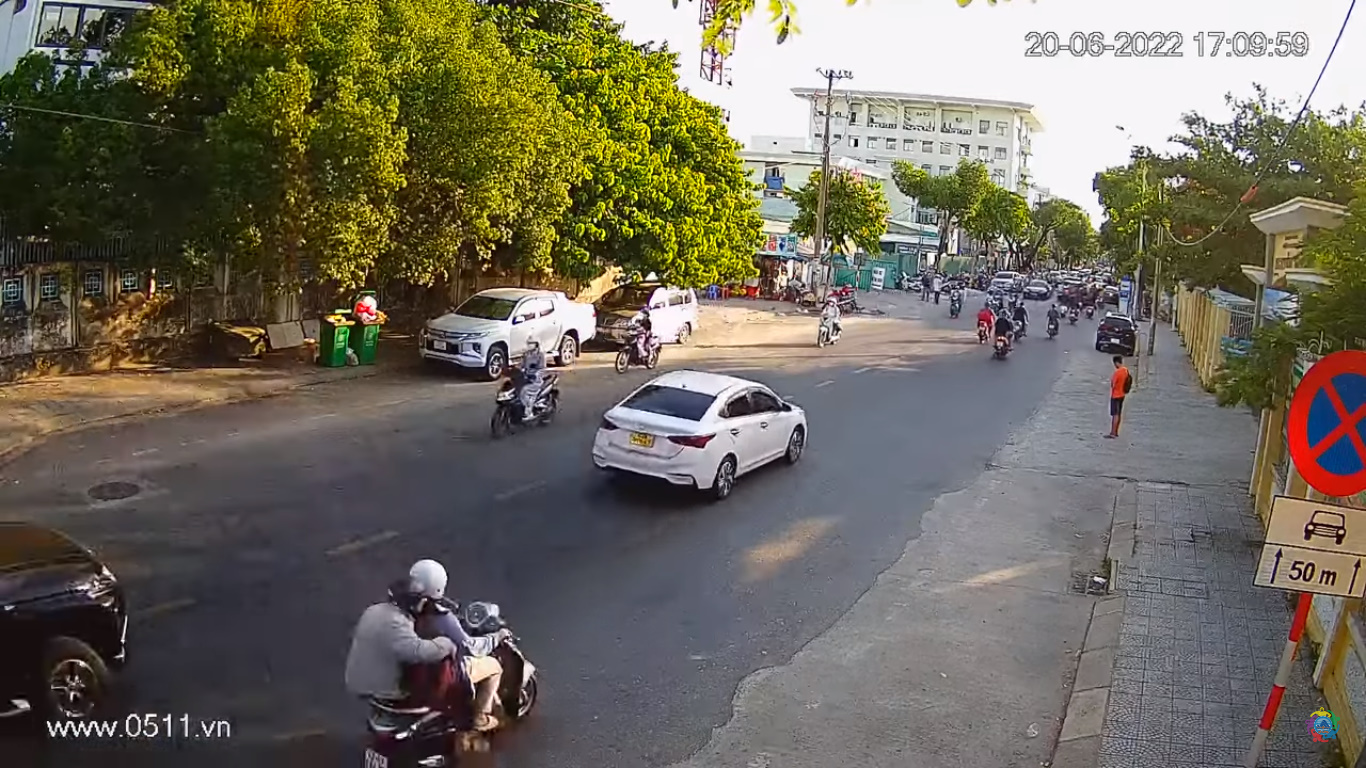car: (592, 367, 813, 501)
